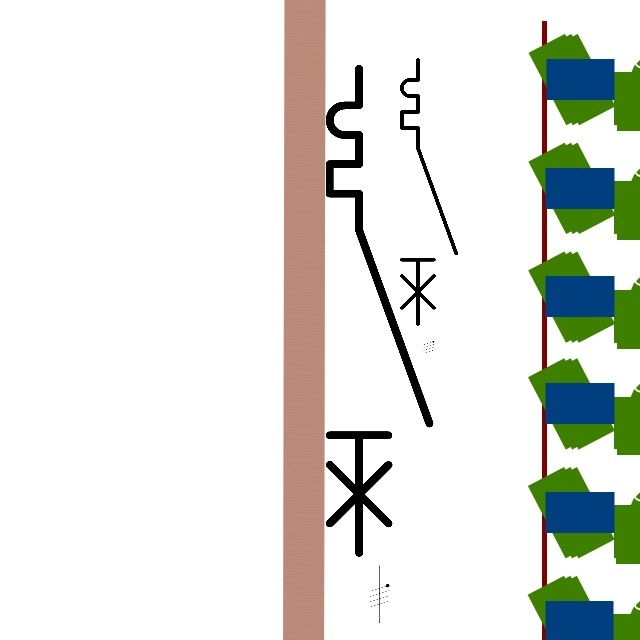interruptor_termomagnetico: (317, 56, 441, 565), (395, 53, 463, 330)
